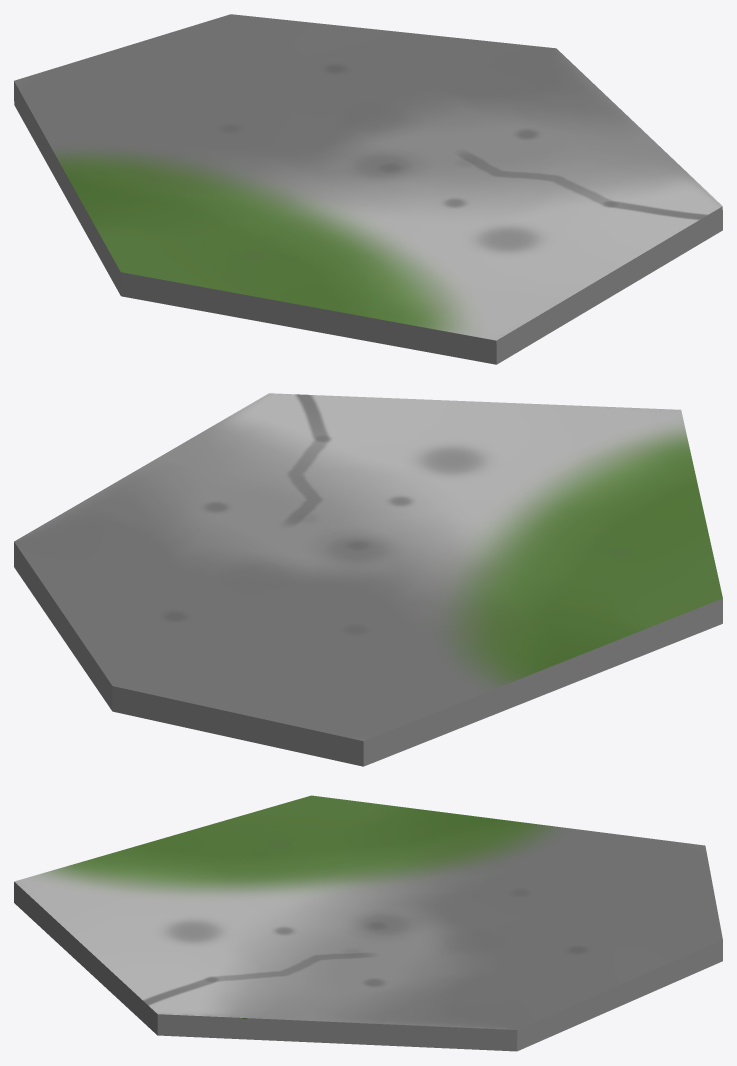
The picture shows the model from 3 angles, top to bottom: view 1: azimuth 30°, elevation 25°; view 2: azimuth 150°, elevation 25°; view 3: azimuth 270°, elevation 25°; orthographic projection. The views are drawn at different scales.
Visible parts, largest first — view 1: Cercle.002; view 2: Cercle.002; view 3: Cercle.002.
Boxes of the visible parts, box(x1,y1,x2,y2) form: Cercle.002: box(14, 14, 722, 364); Cercle.002: box(14, 393, 722, 766); Cercle.002: box(14, 795, 722, 1051).
Size of the model in its own units: 160 by 7.75 by 201.
1 material, 1 textured.
